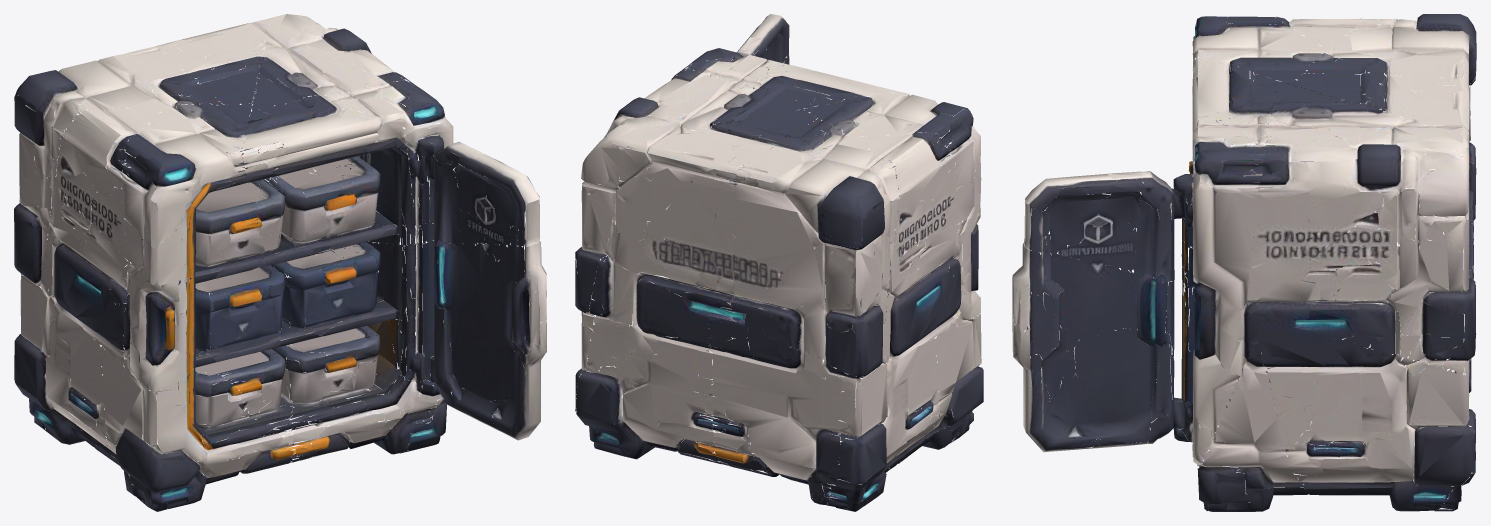
The model's file is LogisticsPallet.glb.
3 views of the same model, side by side, from view 1: azimuth 30°, elevation 25°; view 2: azimuth 150°, elevation 25°; view 3: azimuth 270°, elevation 25° (orthographic). The views are drawn at different scales.
Parts seen in each view (by area): view 1: tripo_node_7fea591d-36b4-465f-91c4-9bffc33b9bfa; view 2: tripo_node_7fea591d-36b4-465f-91c4-9bffc33b9bfa; view 3: tripo_node_7fea591d-36b4-465f-91c4-9bffc33b9bfa.
Part boxes in pixels (box(x1,y1,x2,y2)): tripo_node_7fea591d-36b4-465f-91c4-9bffc33b9bfa: box(14, 14, 546, 511); tripo_node_7fea591d-36b4-465f-91c4-9bffc33b9bfa: box(575, 14, 983, 511); tripo_node_7fea591d-36b4-465f-91c4-9bffc33b9bfa: box(1012, 14, 1476, 511).
Size of the model in its own units: 0.7875 by 0.836 by 0.979.
1 material, 1 textured.
